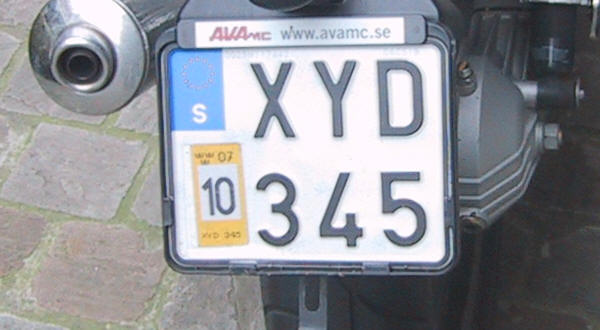license_plate: (161, 39, 455, 269)
